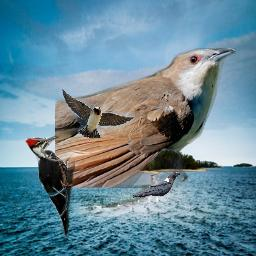Crow: (132, 172, 180, 198)
Cuckoo: (55, 48, 236, 188)
Swallow: (61, 88, 135, 138)
Woodpecker: (25, 134, 75, 242)
